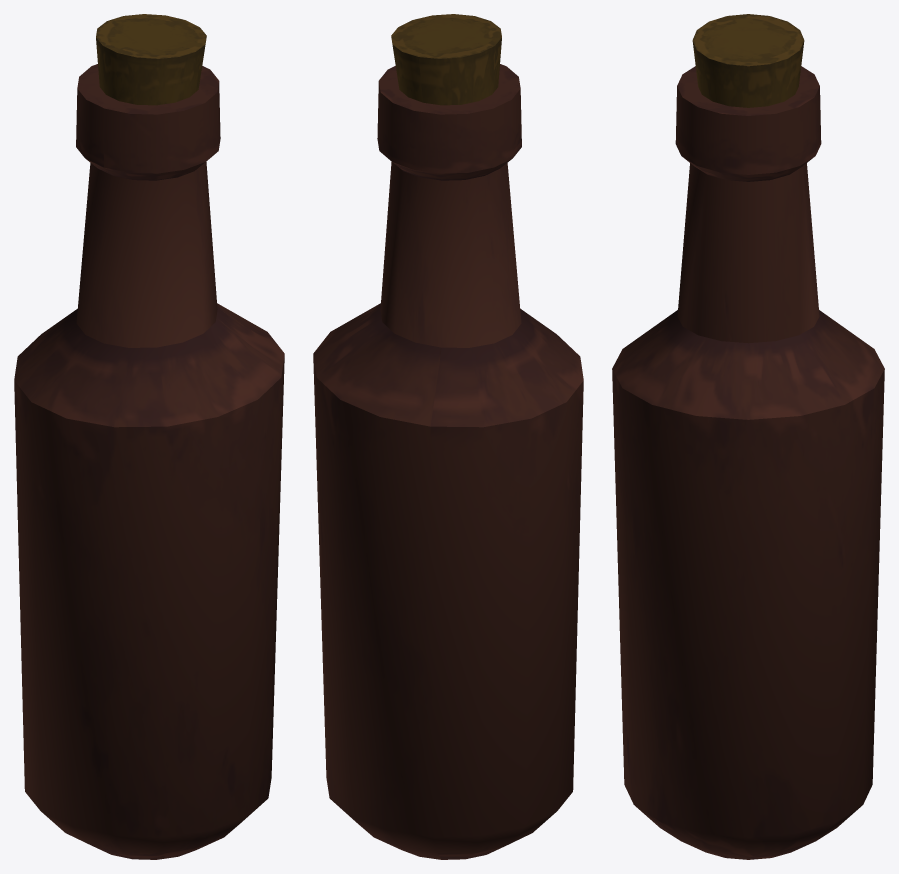
File: Bottle_1.gltf
3 renders of one model, left to right at view 1: azimuth 30°, elevation 25°; view 2: azimuth 150°, elevation 25°; view 3: azimuth 270°, elevation 25°, orthographic.
Parts seen in each view (by area): view 1: Bottle_1; view 2: Bottle_1; view 3: Bottle_1.
Boxes of the visible parts, left/top/right/bottom form: Bottle_1: left=14, top=14, right=284, bottom=859; Bottle_1: left=313, top=14, right=583, bottom=859; Bottle_1: left=612, top=14, right=884, bottom=859.
Size of the model in its own units: 0.1127 by 0.3647 by 0.1129.
Materials: 1 (1 with a texture image).
